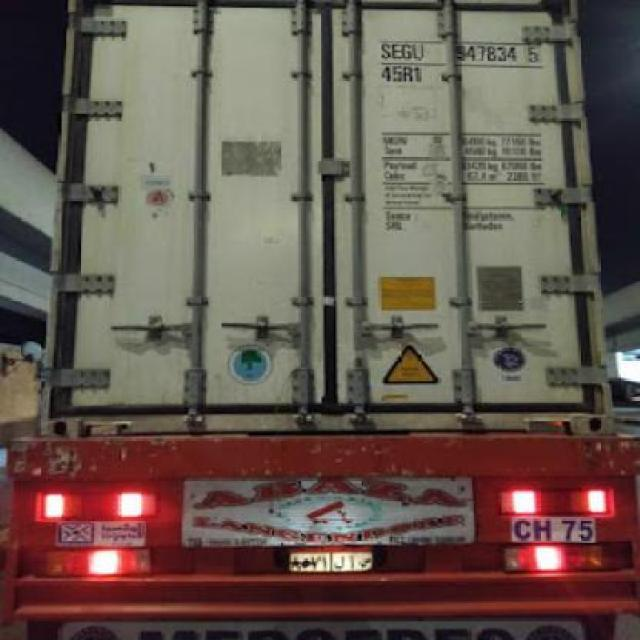ISO: (380, 63, 422, 88)
container_number: (385, 42, 538, 66)
